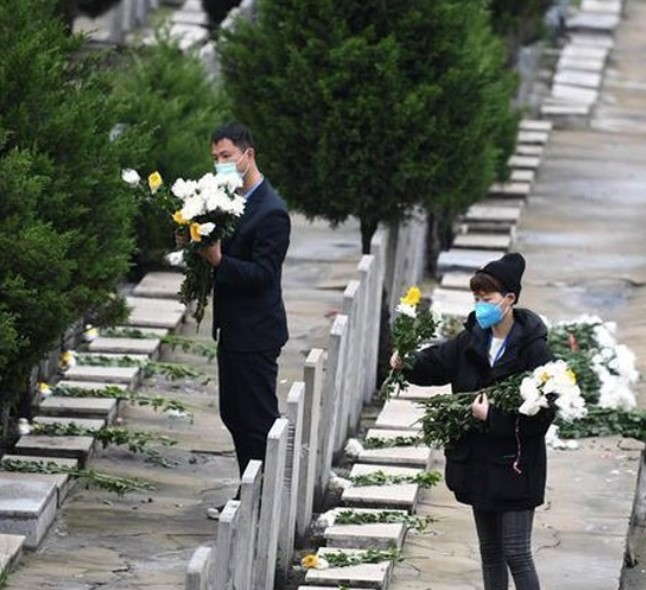face_with_mask: (463, 250, 528, 335), (208, 126, 258, 194)
